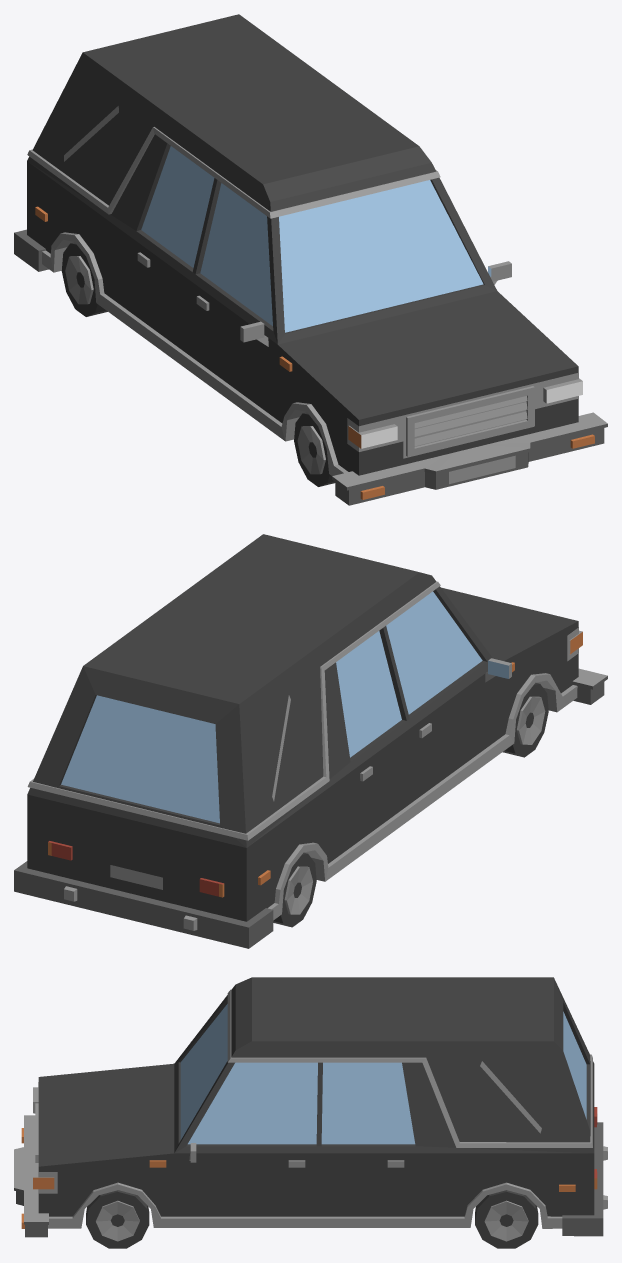
File: transport_purpose_004.fbx
3 views of the same model, one above another, from view 1: azimuth 30°, elevation 25°; view 2: azimuth 150°, elevation 25°; view 3: azimuth 270°, elevation 25° (orthographic). The views are drawn at different scales.
Visible parts, largest first — view 1: transport_purpose_004; view 2: transport_purpose_004; view 3: transport_purpose_004.
Boxes of the visible parts, left/top/right/bottom form: transport_purpose_004: left=14, top=14, right=607, bottom=505; transport_purpose_004: left=14, top=534, right=607, bottom=948; transport_purpose_004: left=14, top=977, right=607, bottom=1248.
Size of the model in its own units: 183 by 152 by 419.
